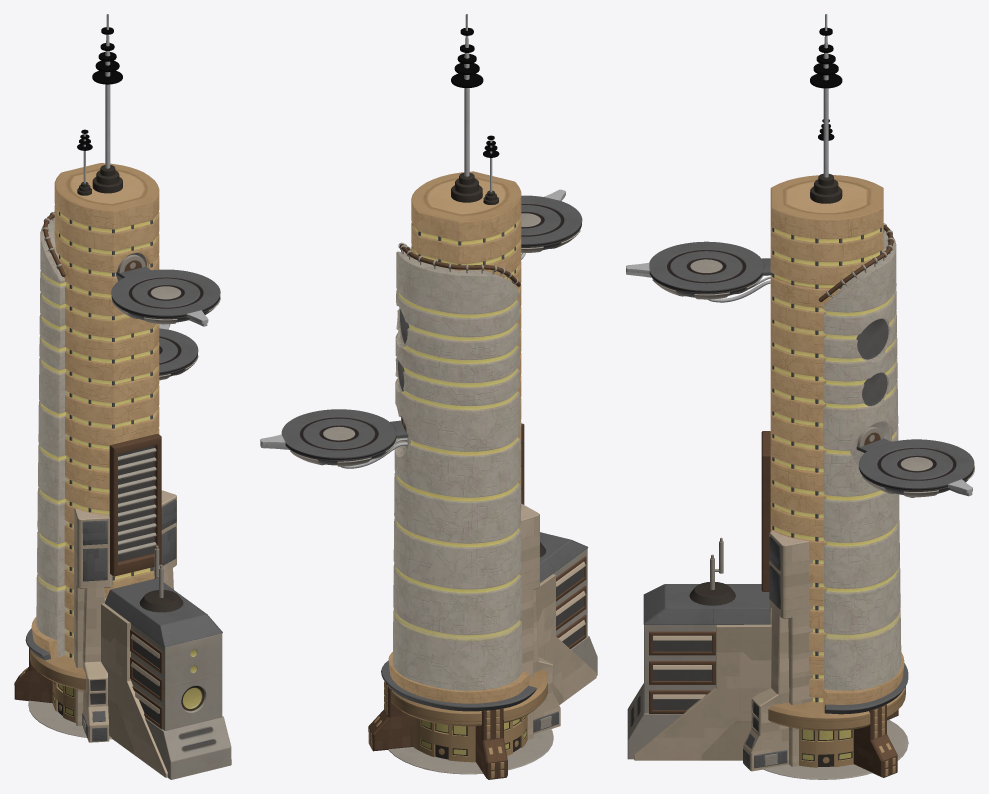
File: 3d_house.glb
3 views of the same model, side by side, from view 1: azimuth 30°, elevation 25°; view 2: azimuth 150°, elevation 25°; view 3: azimuth 270°, elevation 25° (orthographic). The views are drawn at different scales.
Bounding box in the file's own units: 0.0982 × 0.3244 × 0.1406.
Materials: 3 (3 with a texture image).
